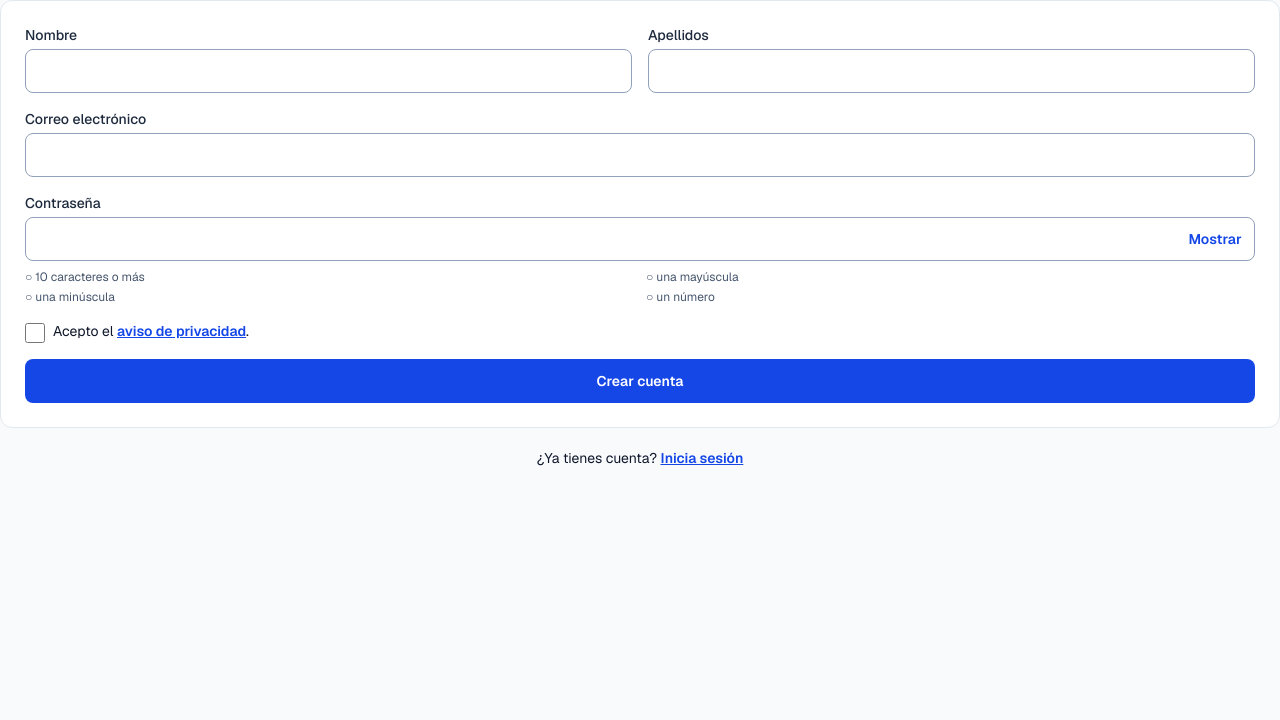
Test: formularios públicos › registro: un correo ya registrado ofrece iniciar sesión
Type "Ana" into the field labelled "Nombre" at (328, 71), box [25,49,632,93]
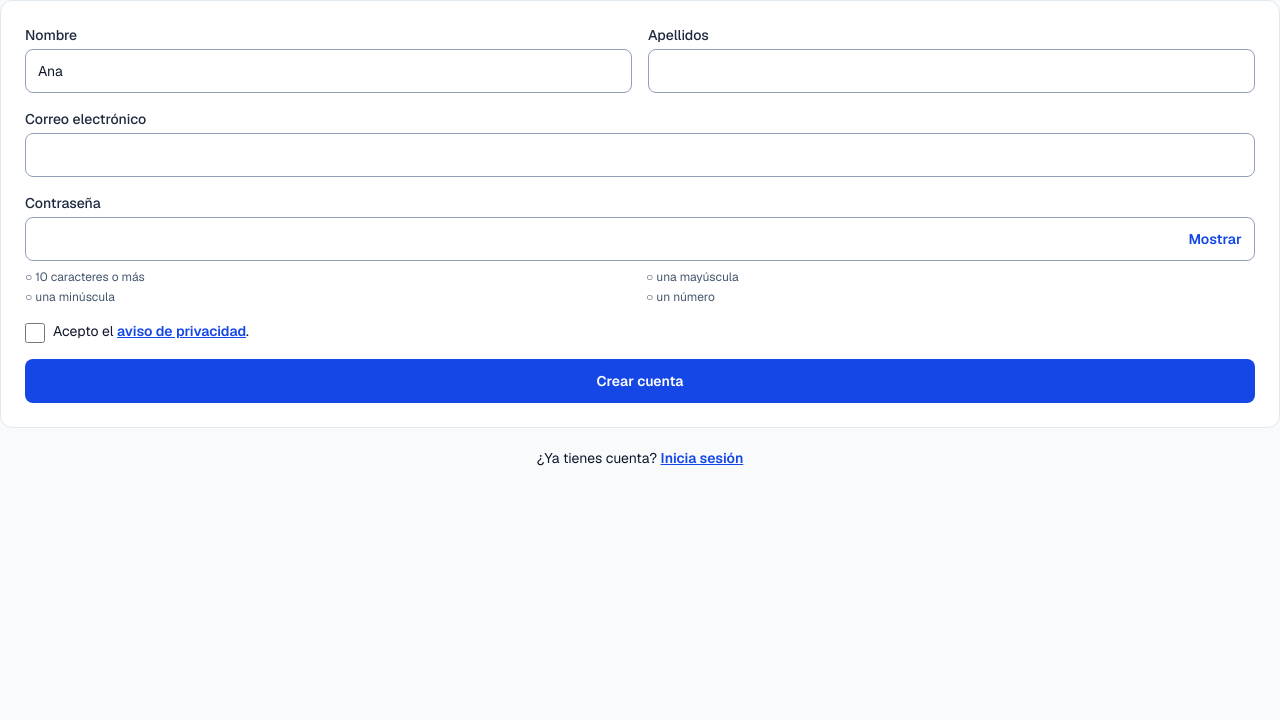
Type "Prueba" into the field labelled "Apellidos" at (952, 71), box [648,49,1255,93]
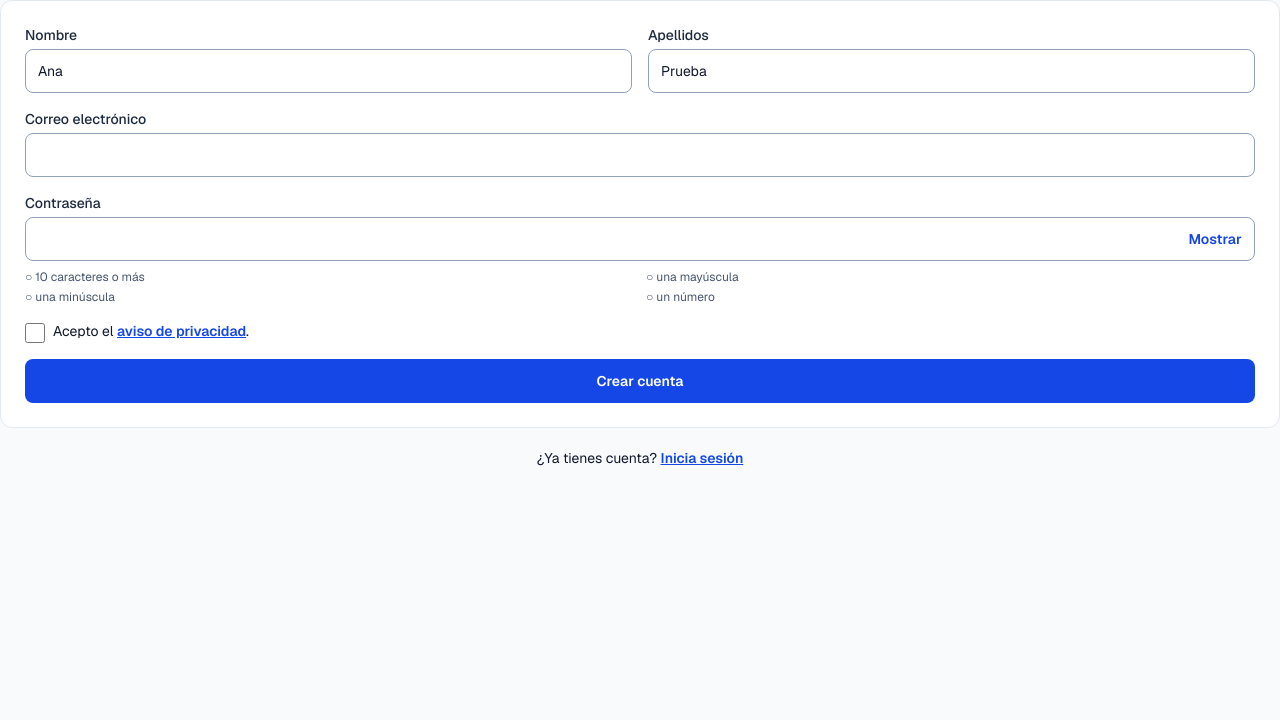
Type "ana@iinicia.test" into the field labelled "Correo electrónico" at (640, 155), box [25,133,1255,177]
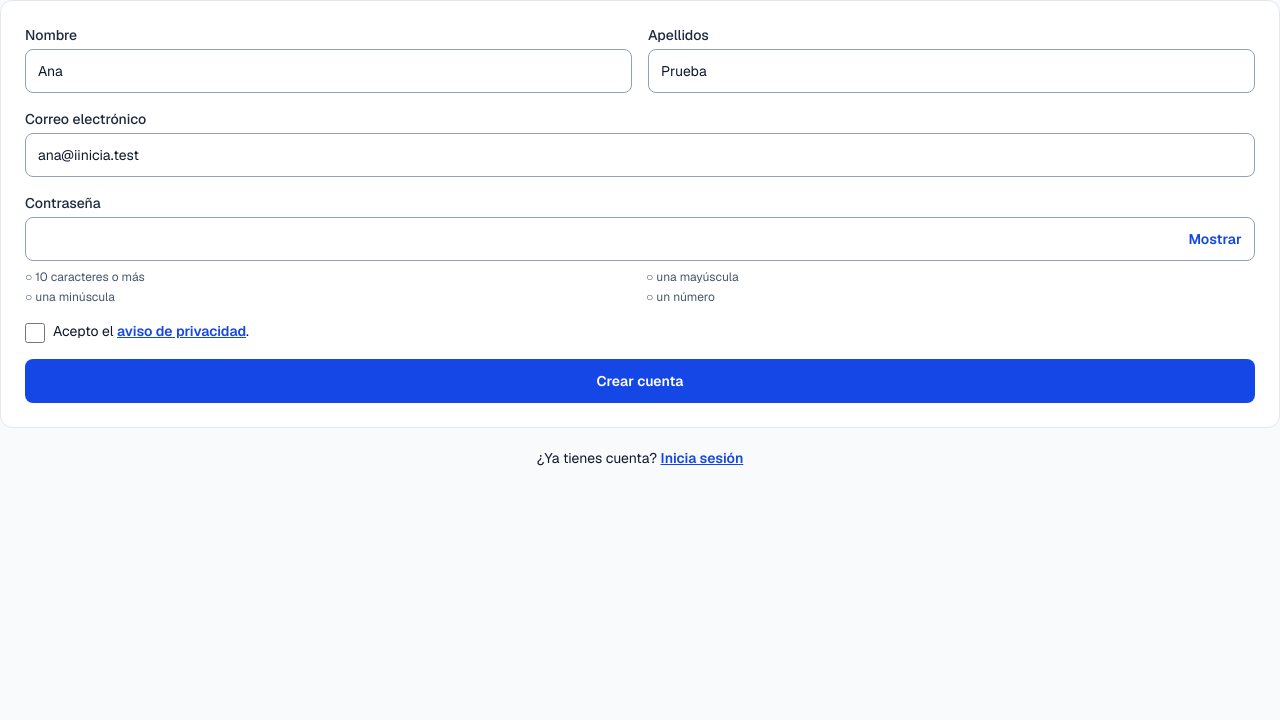
Type "Segura12345" into the password field labelled "Contraseña" at (640, 239), box [25,217,1255,261]
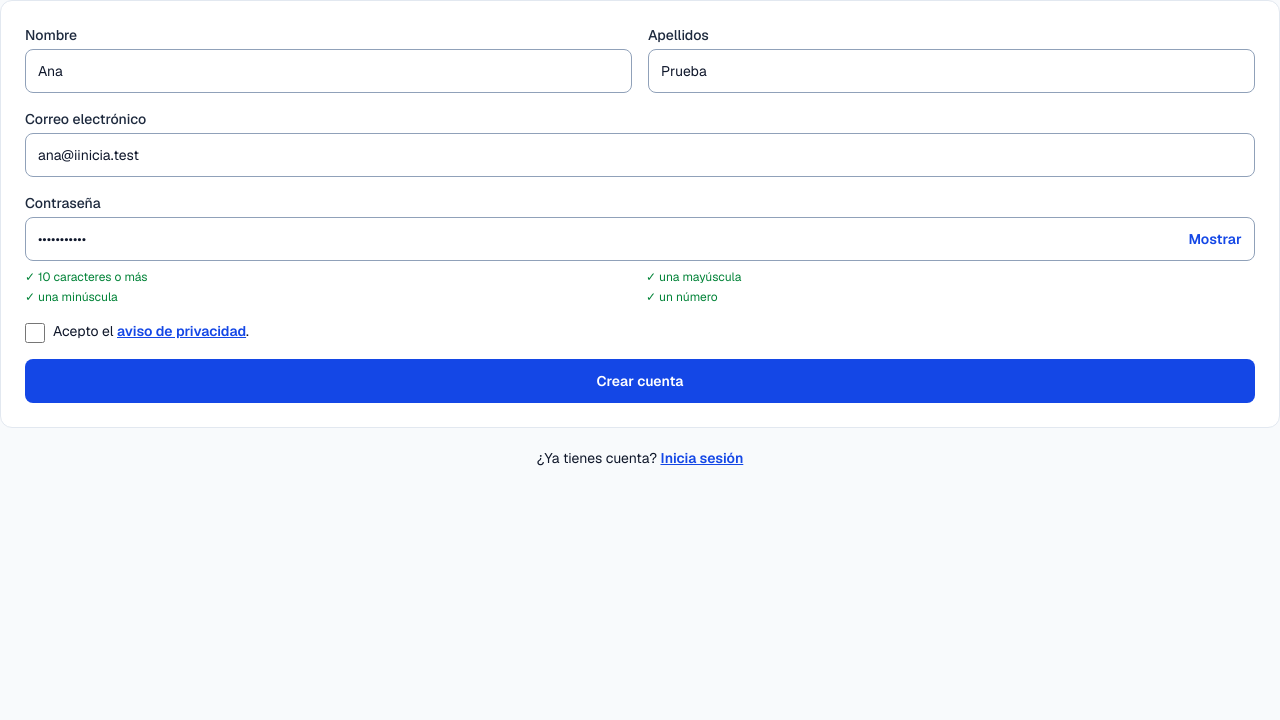
Click the checkbox at (35, 333), box [25,323,45,343]
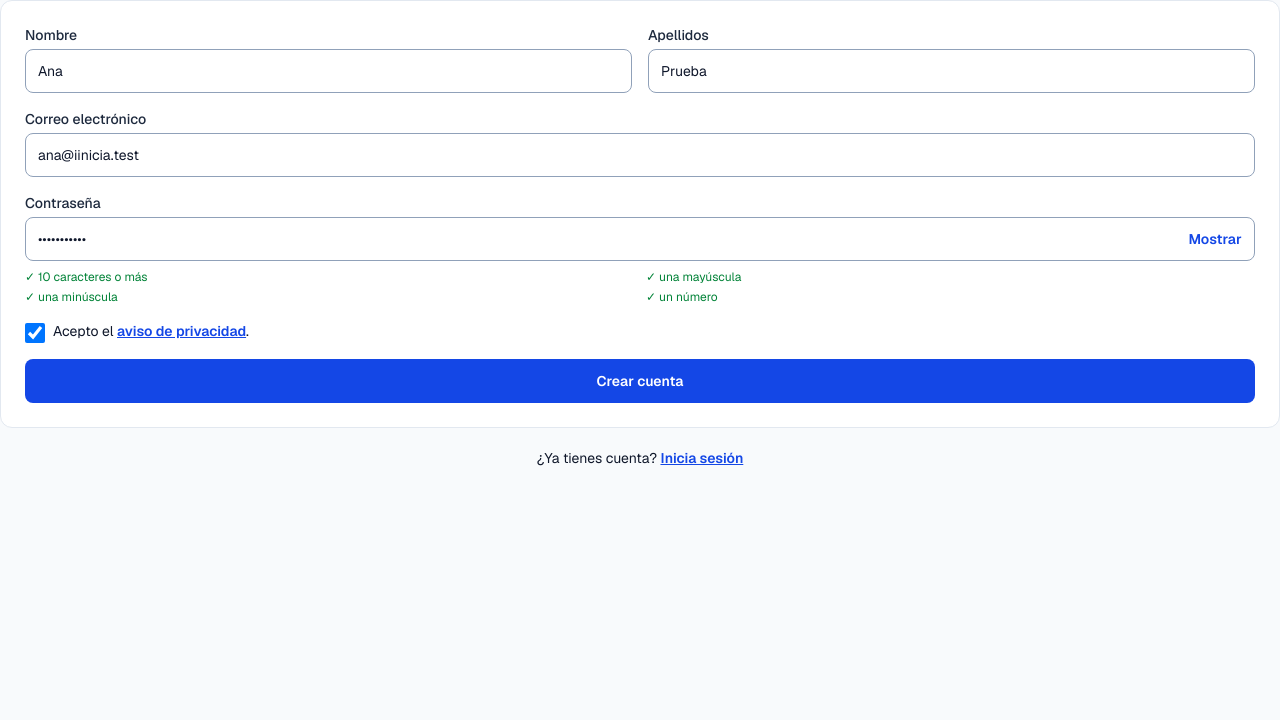
Submit the form named "Crear cuenta", box [0,0,1279,428]
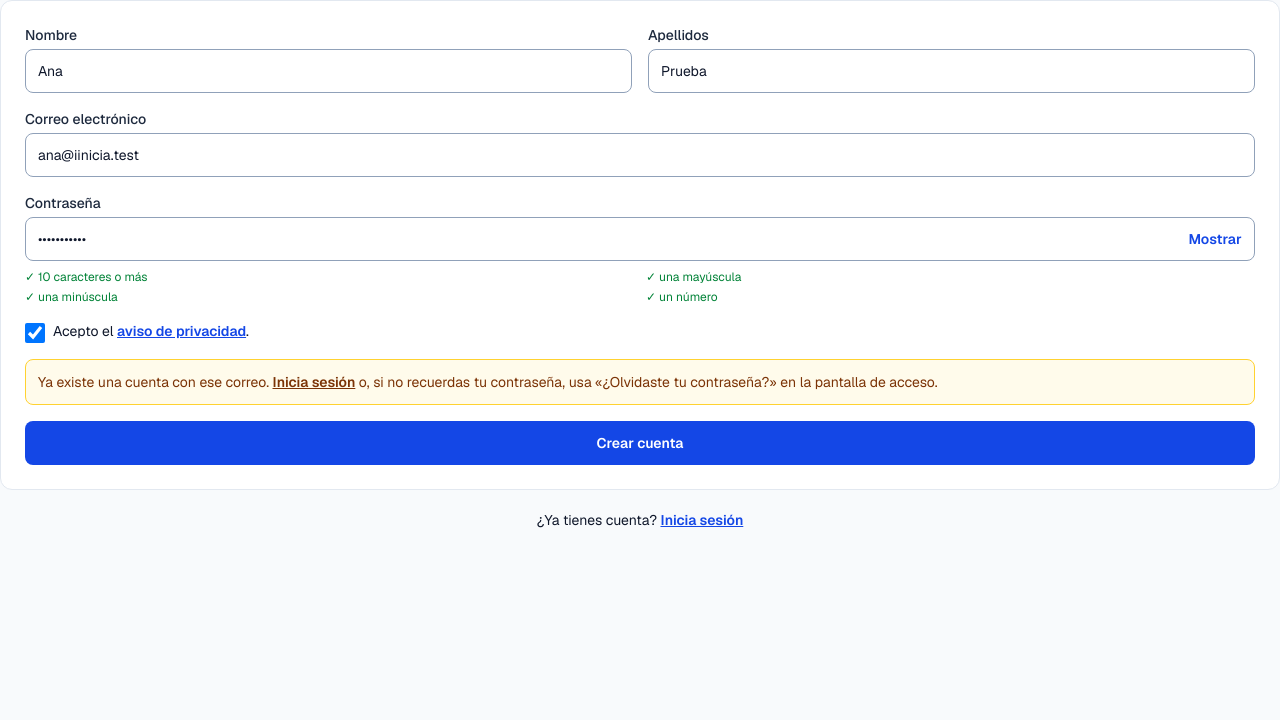
Expected: the text "Ya existe una cuenta con ese correo" is shown, [38,373,269,391]
Expected: the link "Inicia sesión" next to "Ya existe una cuenta con ese correo." is shown, [272,373,355,391]
